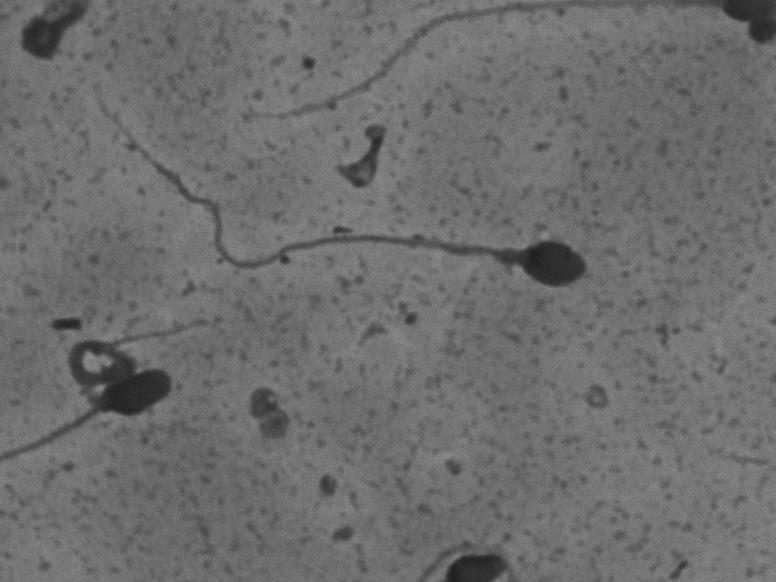Abnormal: (78, 92, 596, 307), (12, 305, 238, 484)
